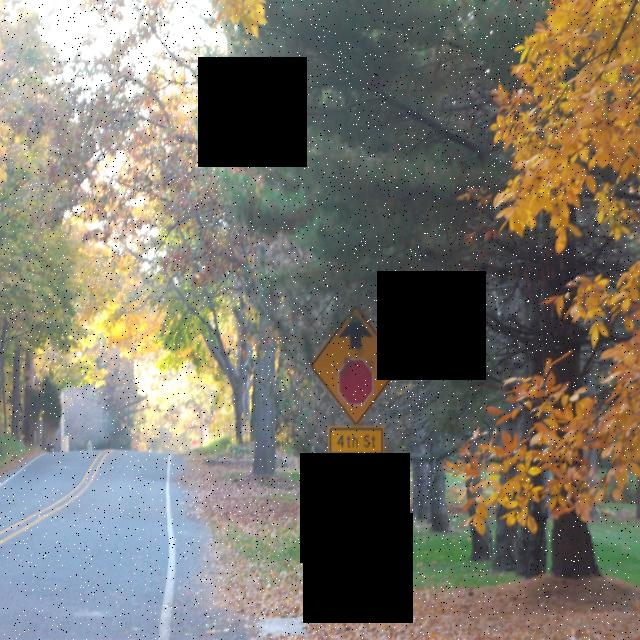stop: (340, 354, 375, 410)
warning: (311, 313, 402, 426), (328, 426, 387, 456)
